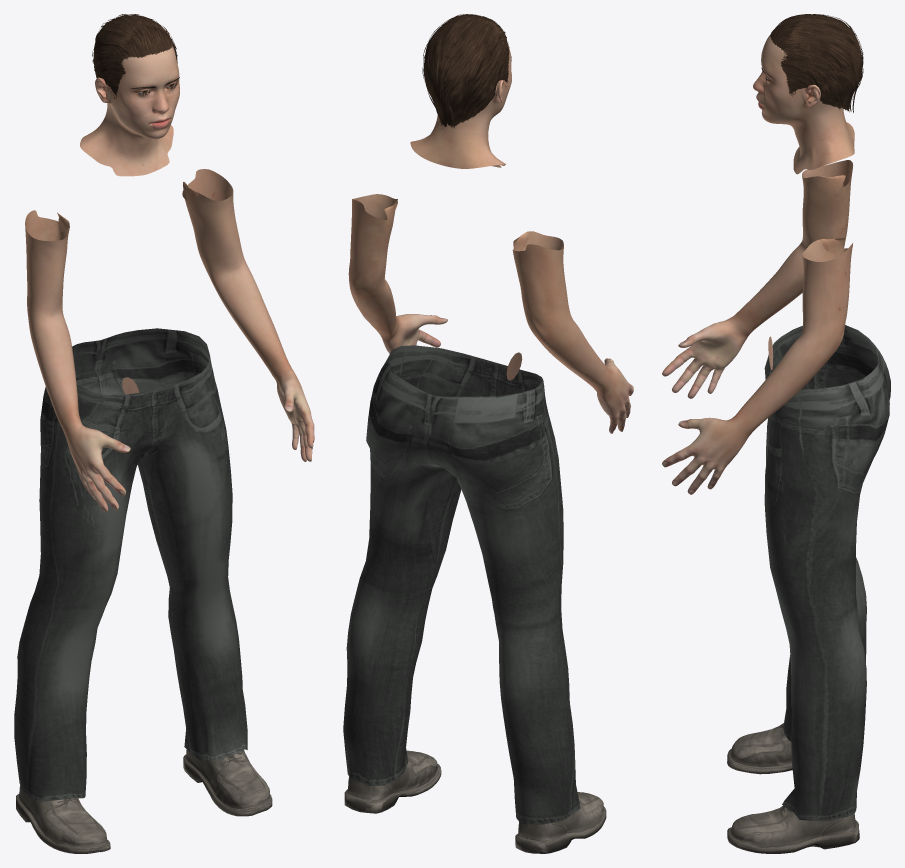
File: person-detail.glb
The picture shows the model from 3 angles, left to right: view 1: azimuth 30°, elevation 25°; view 2: azimuth 150°, elevation 25°; view 3: azimuth 270°, elevation 25°; orthographic projection. The views are drawn at different scales.
Visible parts, largest first — view 1: Cloth_jeans, base, Cloth_shoes, Hair_short04; view 2: Cloth_jeans, base, Hair_short04, Cloth_shoes; view 3: Cloth_jeans, base, Cloth_shoes, Hair_short04.
Part boxes in pixels (x1,y1,x2,y2): Cloth_jeans: (14,328,247,801); base: (25,46,314,512); Cloth_shoes: (16,749,272,853); Hair_short04: (92,14,177,98); Cloth_jeans: (343,345,580,824); base: (348,41,633,433); Hair_short04: (422,14,509,128); Cloth_shoes: (344,750,606,853); Cloth_jeans: (764,325,890,820); base: (662,34,854,494); Cloth_shoes: (727,723,859,853); Hair_short04: (770,14,863,112).
Size of the model in its own units: 0.561 by 1.84 by 0.4857.
Materials: 9 (8 with a texture image).
